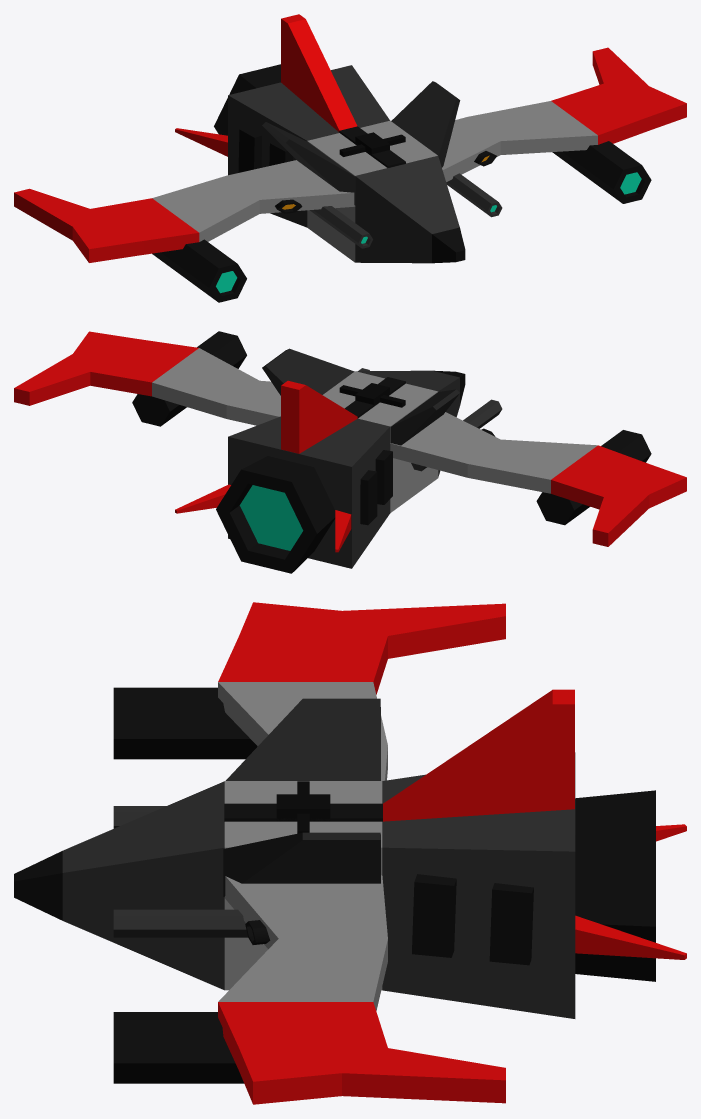
The model's file is StarShip4.fbx.
3 views of the same model, one above another, from view 1: azimuth 30°, elevation 25°; view 2: azimuth 150°, elevation 25°; view 3: azimuth 270°, elevation 25° (orthographic). The views are drawn at different scales.
Visible parts, largest first — view 1: StarShip4; view 2: StarShip4; view 3: StarShip4.
Boxes of the visible parts, box(x1,y1,x2,y2) form: StarShip4: box(14, 14, 686, 302); StarShip4: box(14, 331, 686, 573); StarShip4: box(14, 602, 686, 1104).
Bounding box in the file's own units: 11.29 × 2.99 × 6.69.
